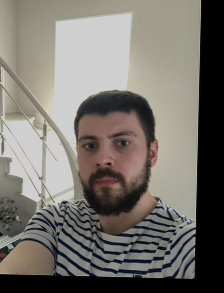without_mask: (76, 126, 146, 217)
